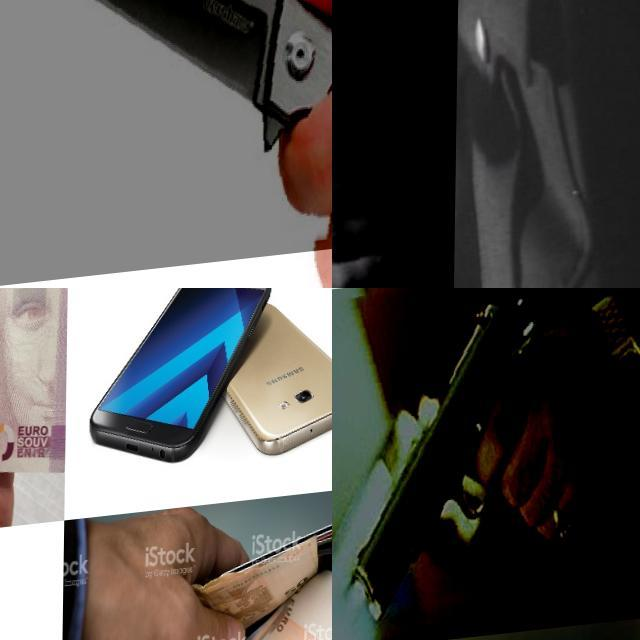-: (0, 0, 332, 287)
gun-knife-thesis - v11 Yolov5 augmented: (332, 288, 640, 640), (332, 0, 507, 288)
